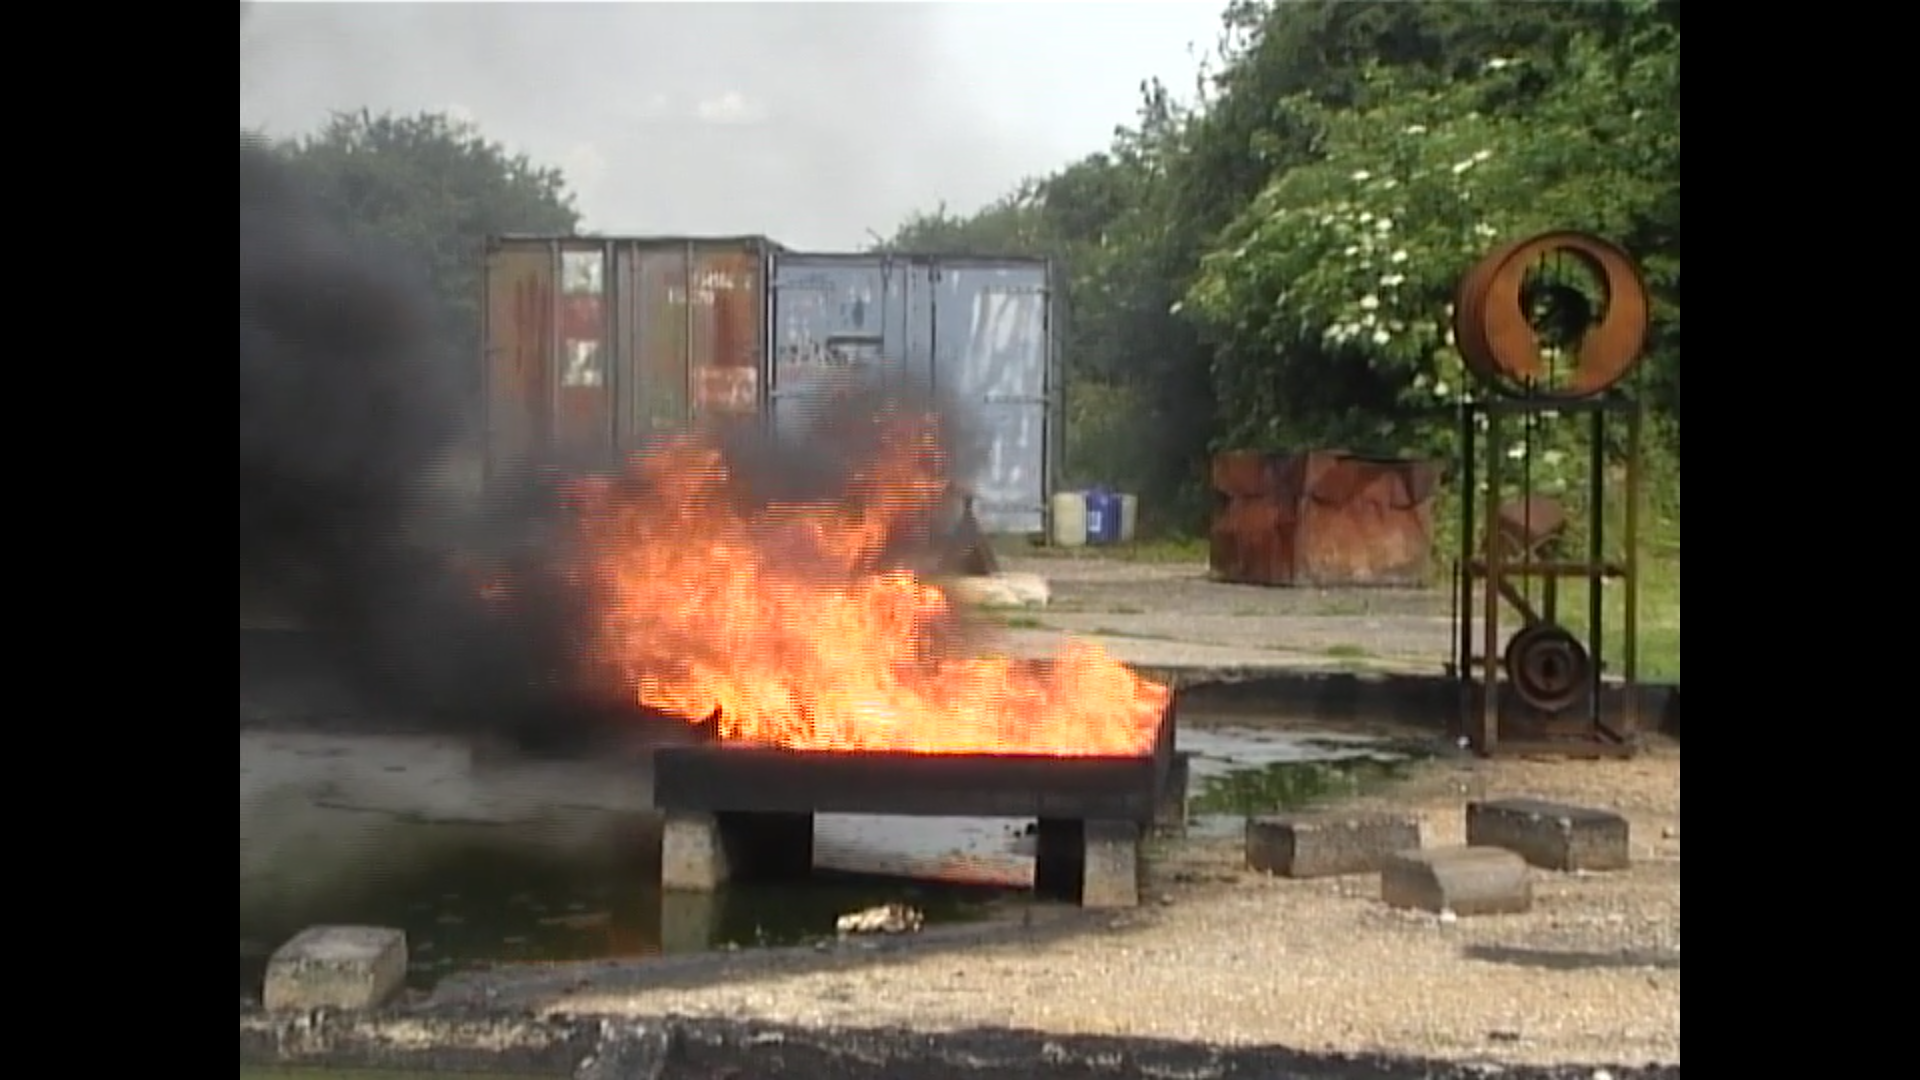person: (540, 415, 1175, 764)
